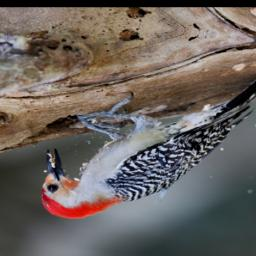Woodpecker: (29, 40, 256, 241)
